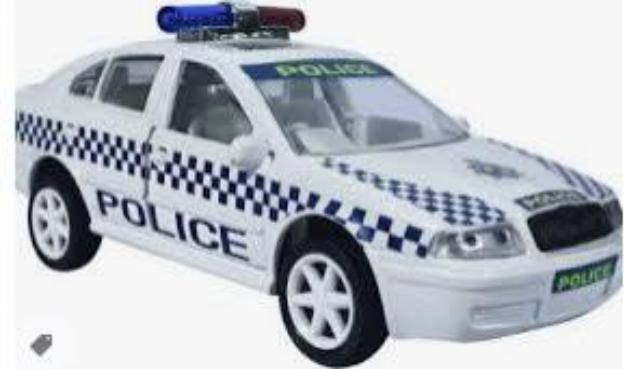police: (17, 0, 622, 369)
